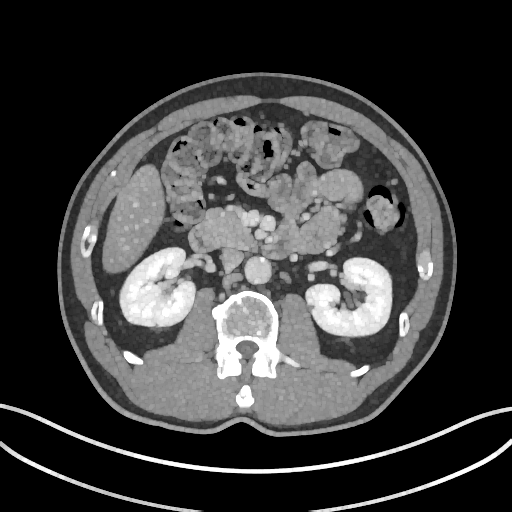Lesion: (308, 304, 314, 315)
